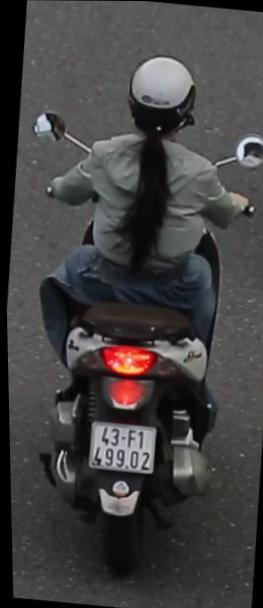LP: (82, 415, 160, 479)
helmet: (120, 47, 203, 145)
